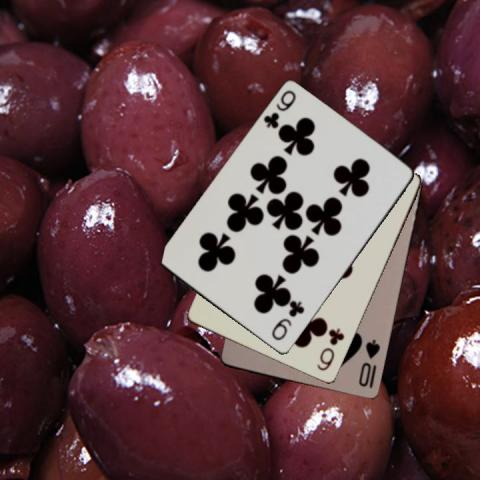10s: (356, 337, 382, 389)
6c: (313, 325, 346, 373)
9c: (269, 298, 306, 343), (261, 87, 297, 131)
